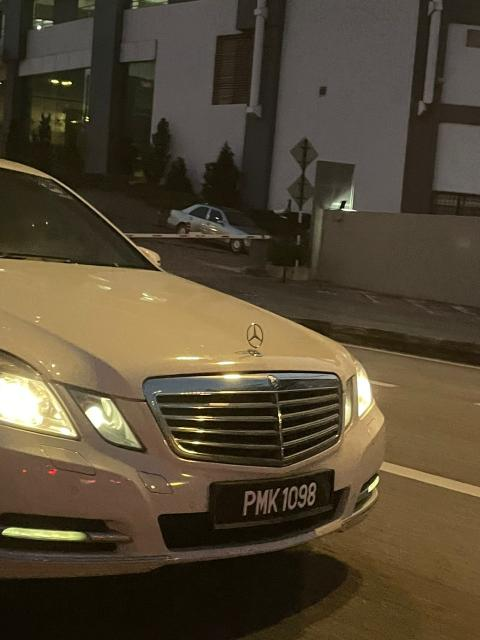License_Plate: (215, 478, 333, 526)
car: (1, 159, 389, 579)
